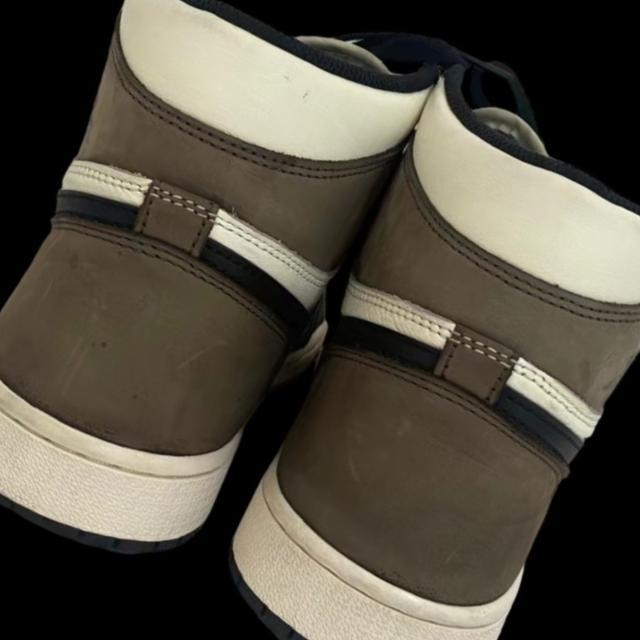nike original jordan 1: (0, 0, 459, 604), (178, 46, 640, 640)
